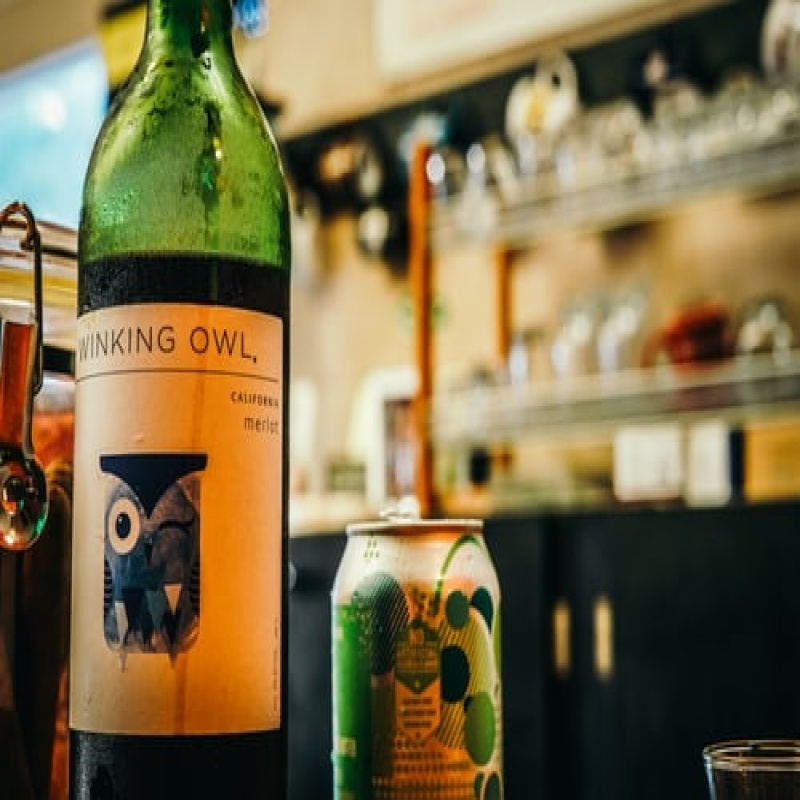wine: (81, 10, 284, 800)
